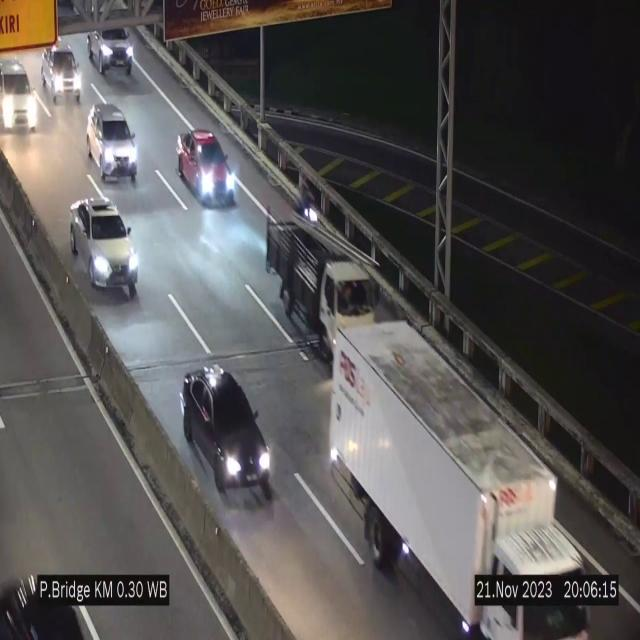Car: (184, 370, 274, 505), (72, 198, 138, 291), (173, 127, 239, 212), (87, 103, 137, 183), (0, 56, 38, 133), (40, 39, 84, 102)
Truck: (332, 325, 591, 640), (264, 201, 380, 364)
